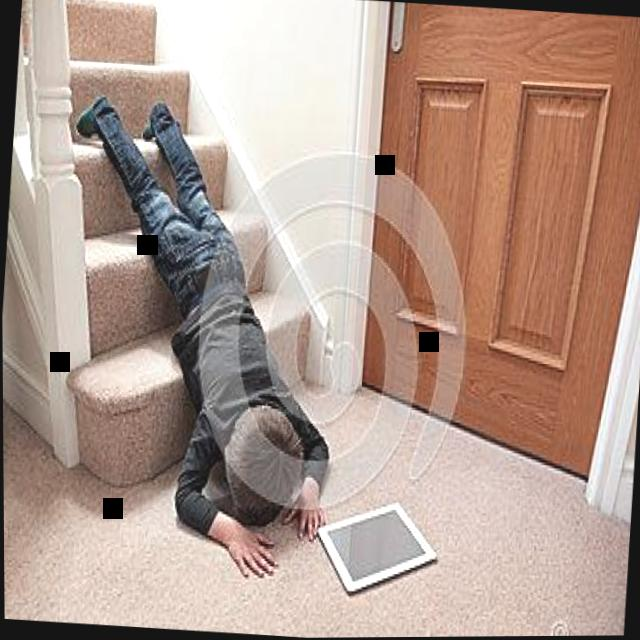Fall-Detected: (37, 66, 387, 586)
